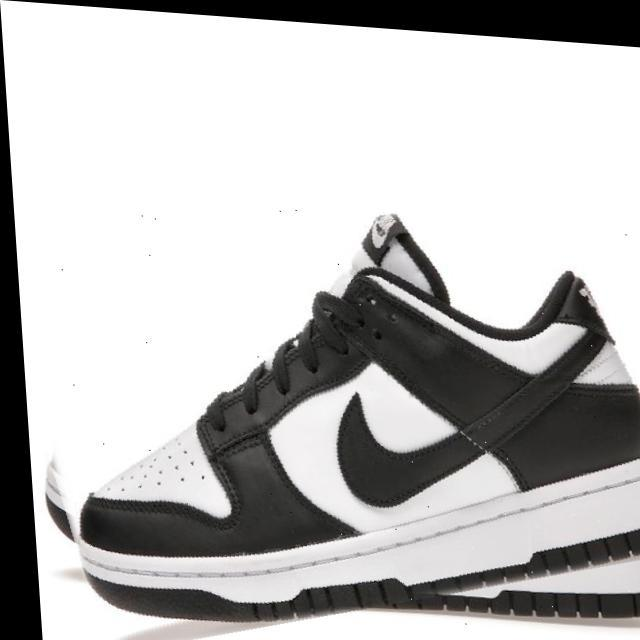J1_InsoleChar: (46, 211, 638, 626)
J1_StitchPattern: (44, 455, 637, 623), (86, 287, 384, 523), (250, 528, 637, 623), (237, 265, 446, 416), (198, 288, 379, 452), (252, 579, 637, 623), (84, 418, 236, 526), (421, 528, 636, 595), (268, 292, 372, 393), (253, 578, 413, 622), (82, 491, 231, 527), (119, 440, 206, 494), (309, 292, 369, 357), (270, 335, 307, 393), (238, 360, 276, 415), (366, 210, 401, 251)
